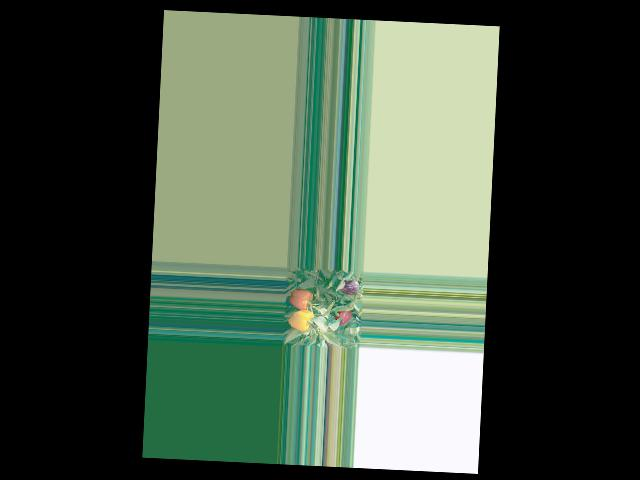bell_pepper: (289, 304, 315, 331)
